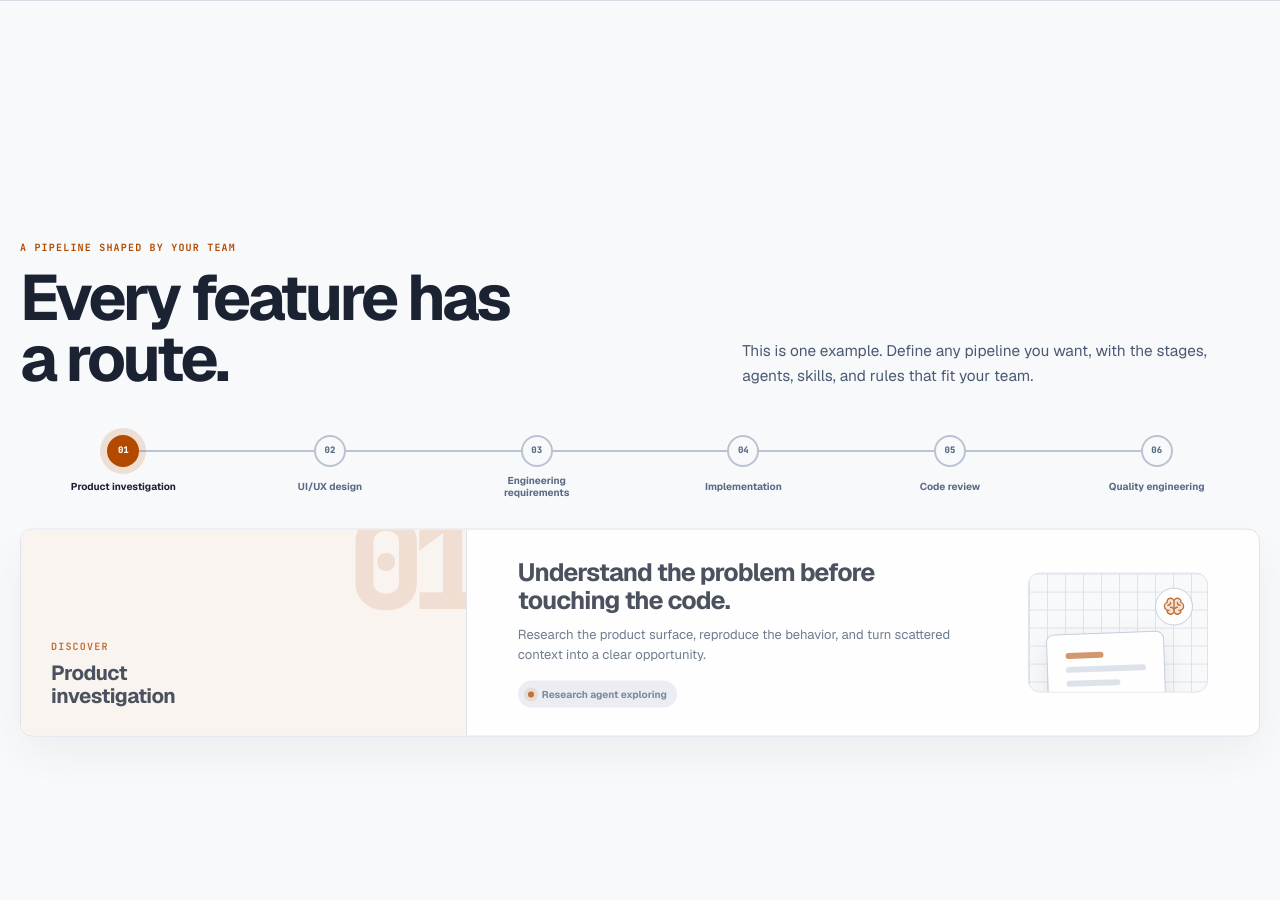
Test: LifecycleSection › switches to the matching slide when a stage number is activated
What coordinates should you click on to do the following:
click the text "04"
I would click on:
 (743, 451)
Its box is [727,435,759,467].
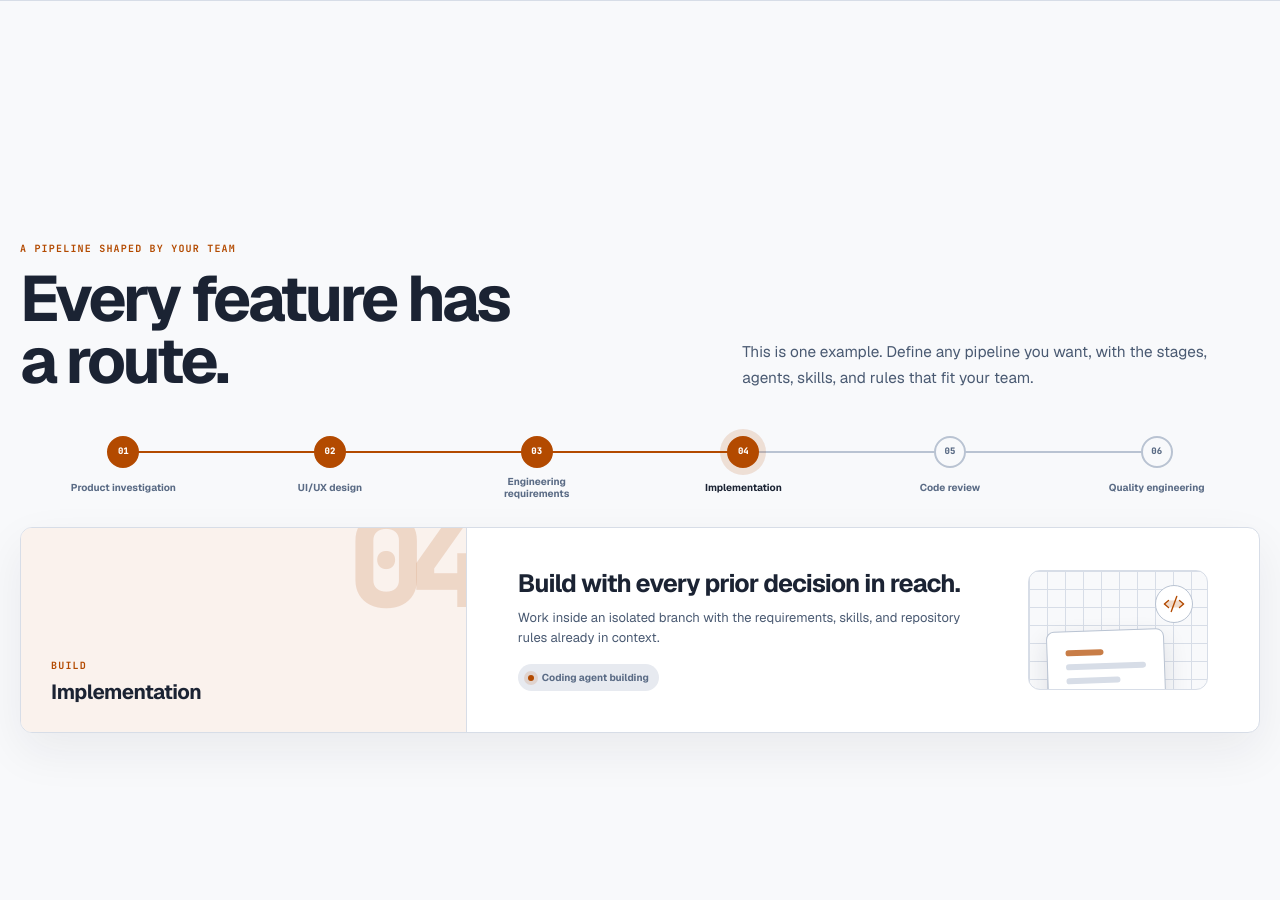
Check: the heading "Build with every prior decision in reach." is shown, box [518,569,977,597]
